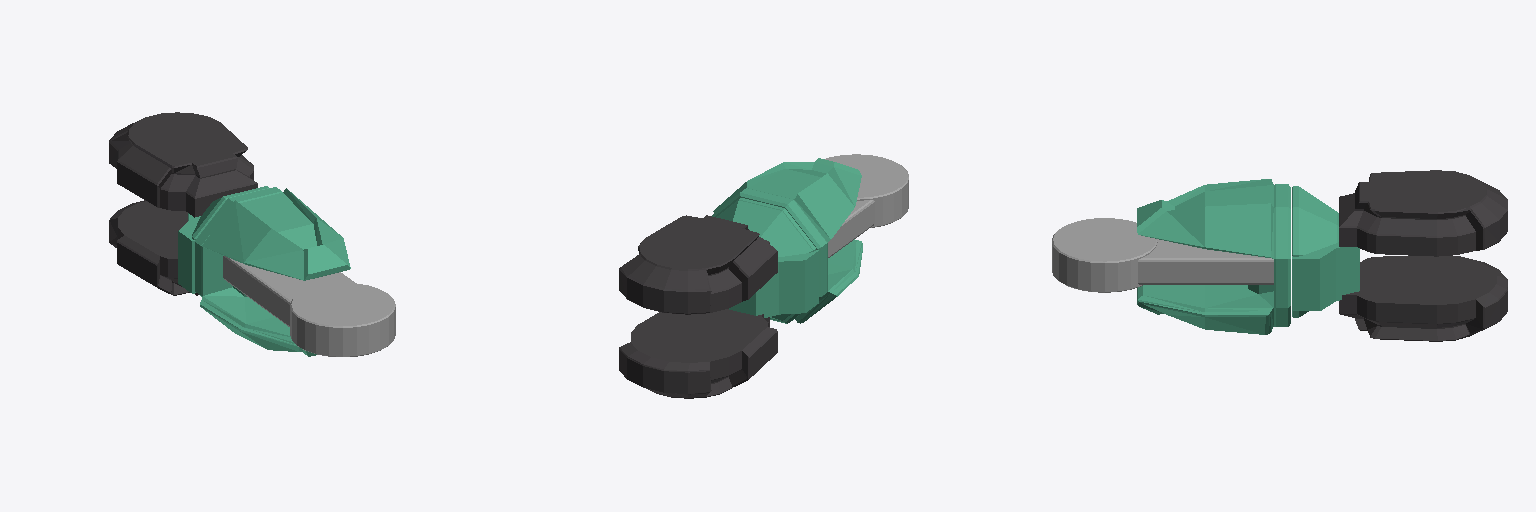
File: r-upper-arm.obj
3 renders of one model, left to right at view 1: azimuth 30°, elevation 25°; view 2: azimuth 150°, elevation 25°; view 3: azimuth 270°, elevation 25°, orthographic.
Visible parts, largest first — view 1: r-upper-arm.obj; view 2: r-upper-arm.obj; view 3: r-upper-arm.obj.
Boxes of the visible parts, x1,y1,x2,y2 form: r-upper-arm.obj: [109, 112, 395, 356]; r-upper-arm.obj: [619, 154, 908, 398]; r-upper-arm.obj: [1052, 170, 1507, 341].
Bounding box in the file's own units: 0.1091 × 0.1085 × 0.3445.